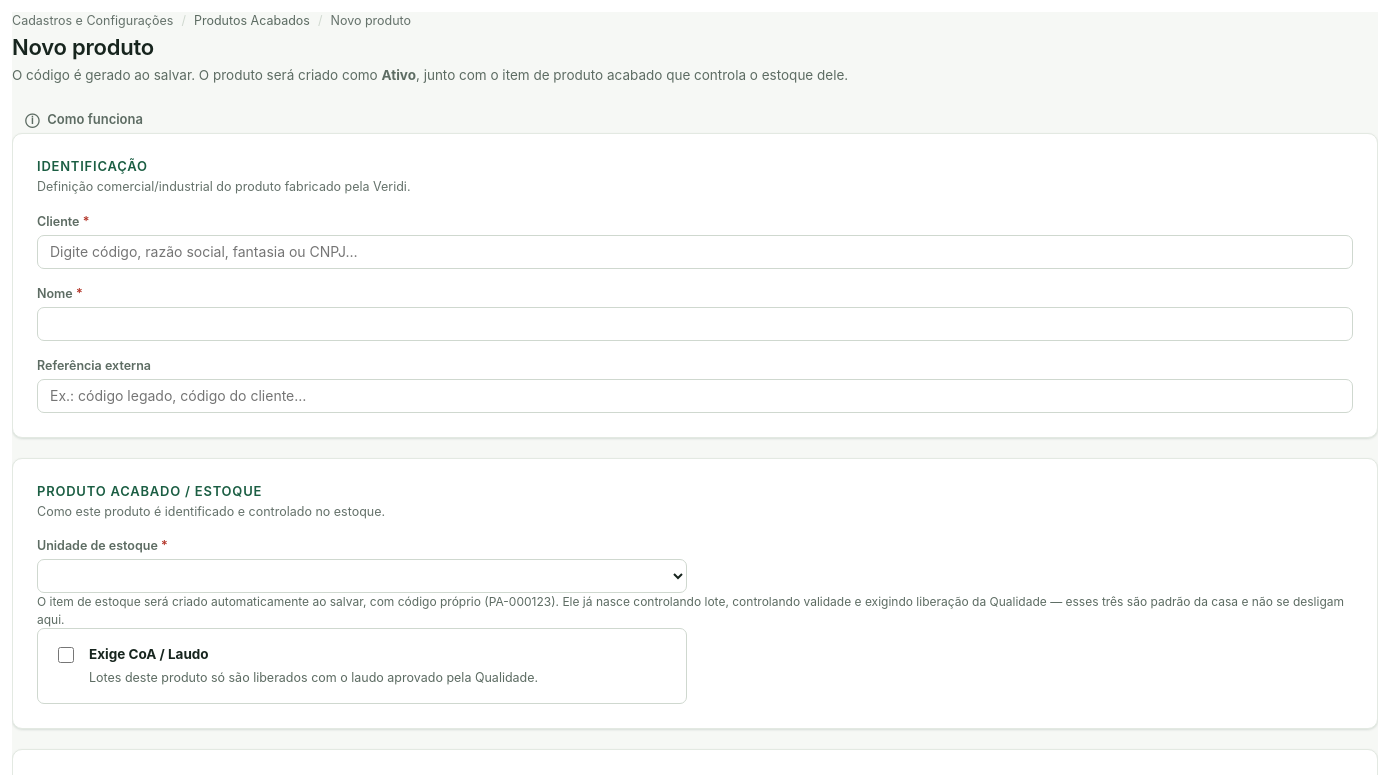
Test case: Produto — cliente fora da primeira página › a busca de cliente carrega o filtro de ativo e o achado aparece
The image size is (1378, 775).
In the dropdown labelled "Cliente *": (695,252) [37,235,1353,269], type "Gama"
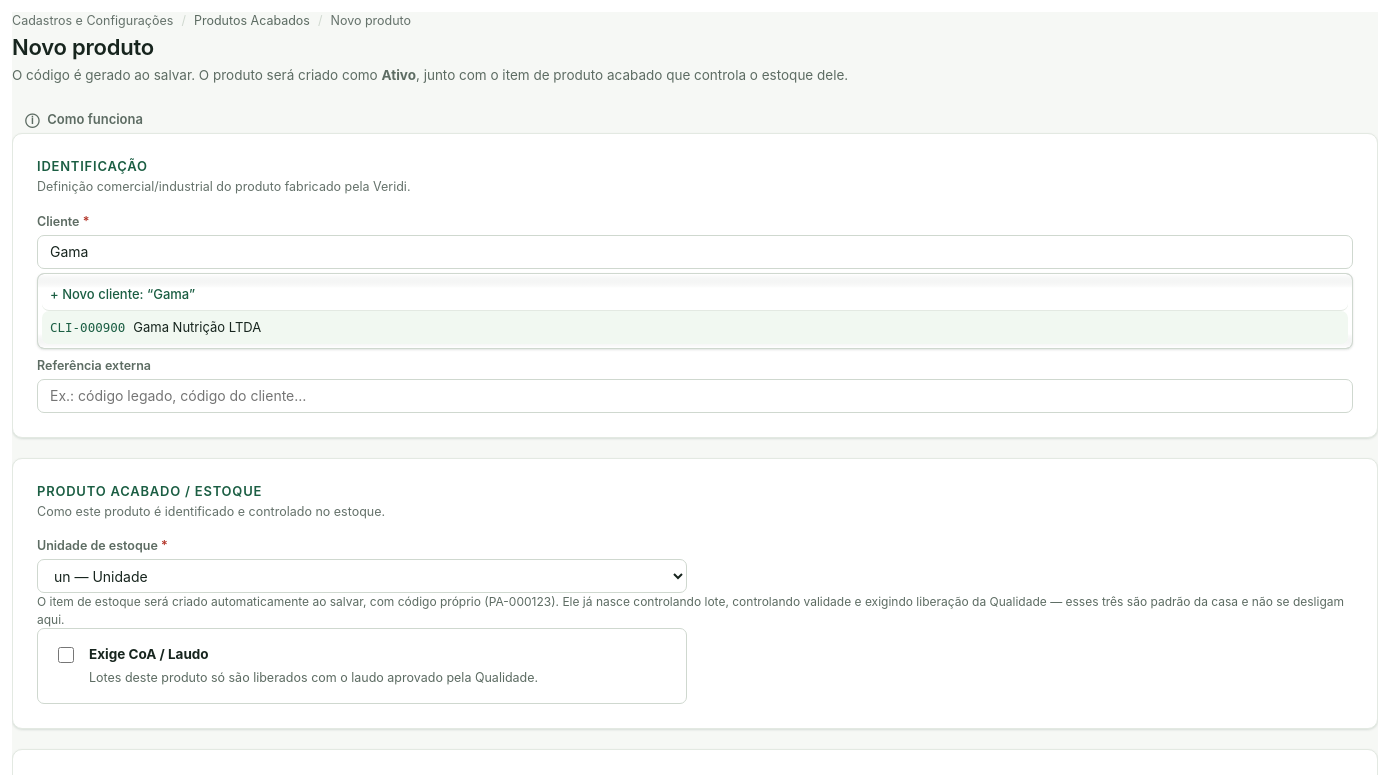
expect the option "CLI-000900 Gama Nutrição LTDA" is shown: met, box [42,311,1348,344]
